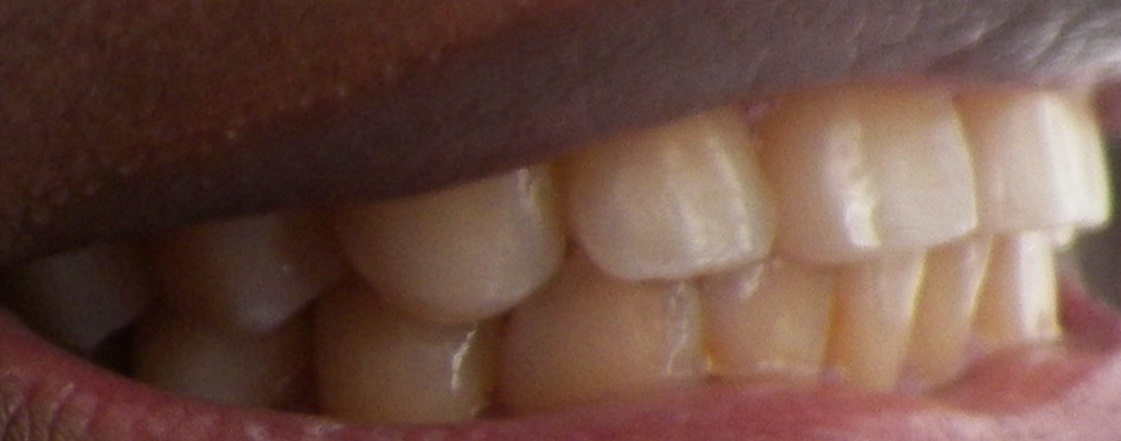boca: (39, 86, 1119, 404)
